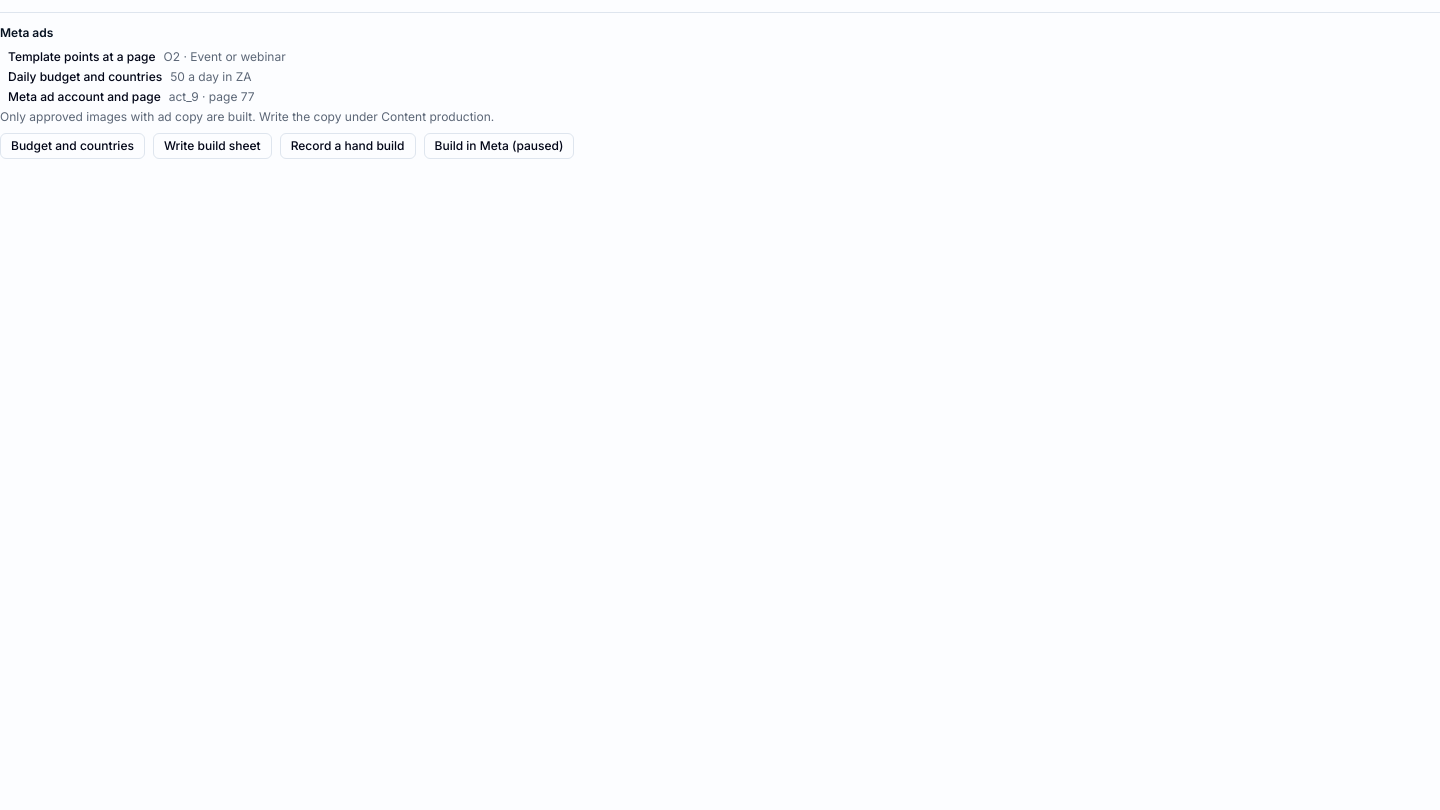
Test: MetaBuildSection › refuses an id that is not one, rather than storing something reporting cannot match
Click the button "Record a hand build" at (348, 146), box [280,133,416,159]
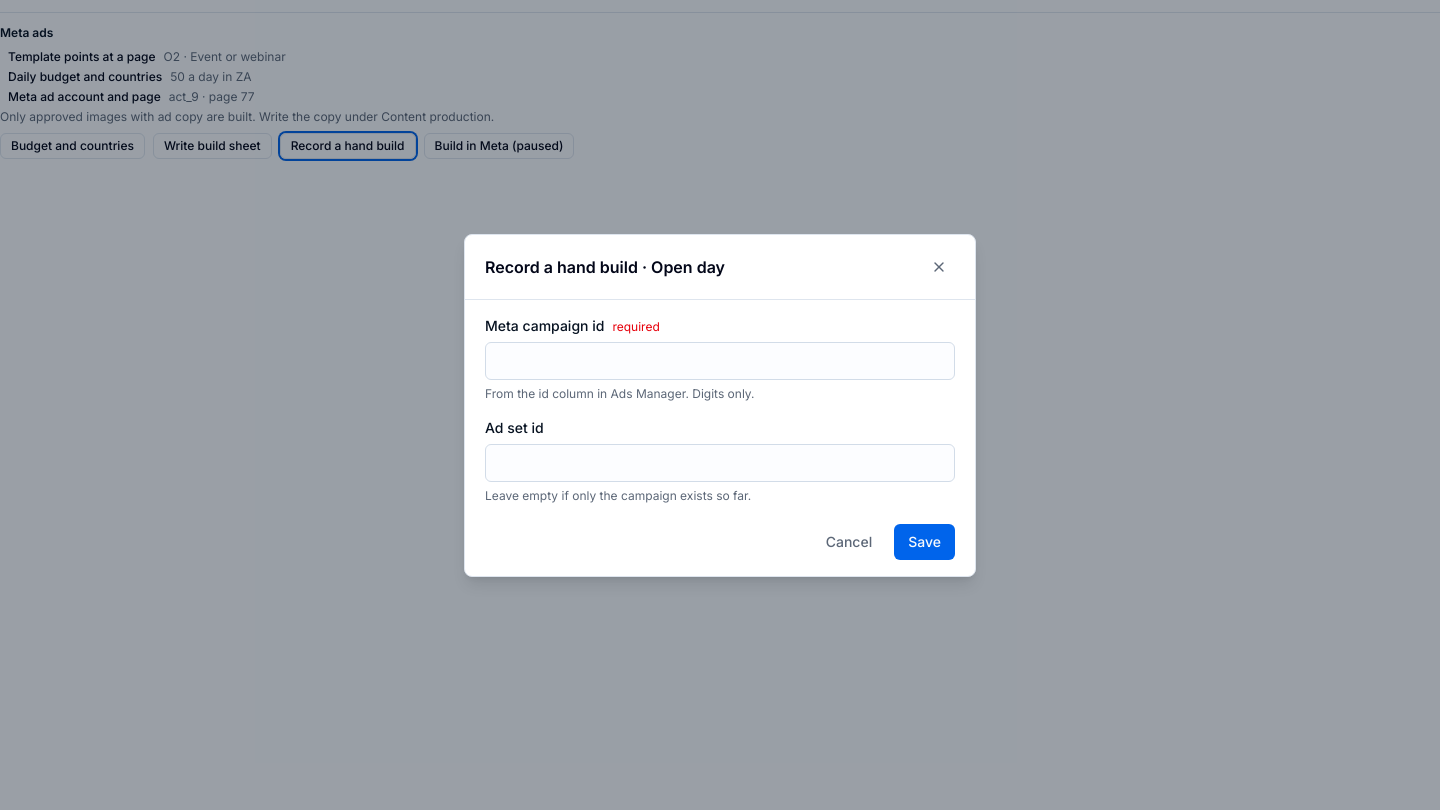
Type "act_9" into the field labelled "Meta campaign id required" at (720, 360), box [485,342,955,380]
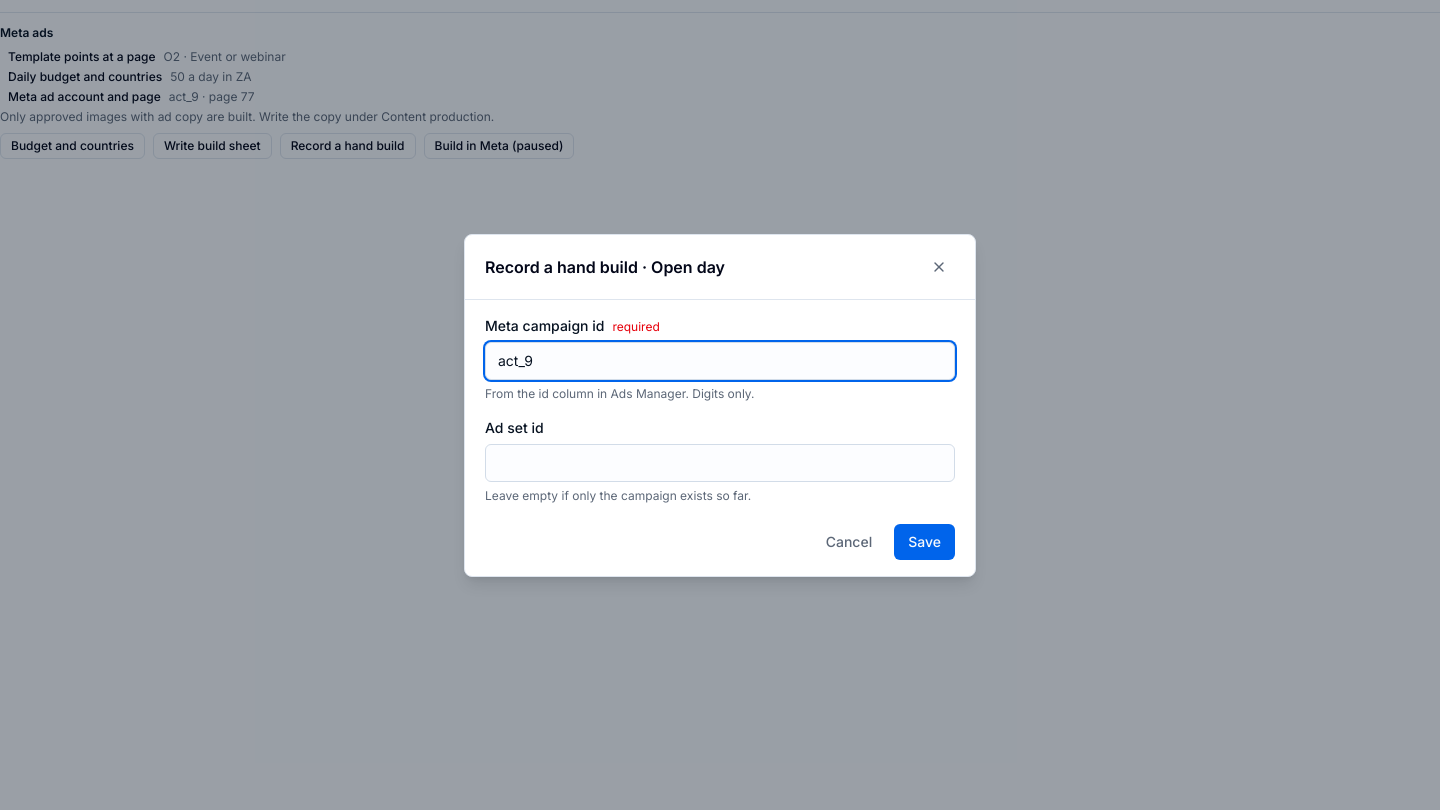
Click the button "Save" at (925, 542), box [894,524,955,560]
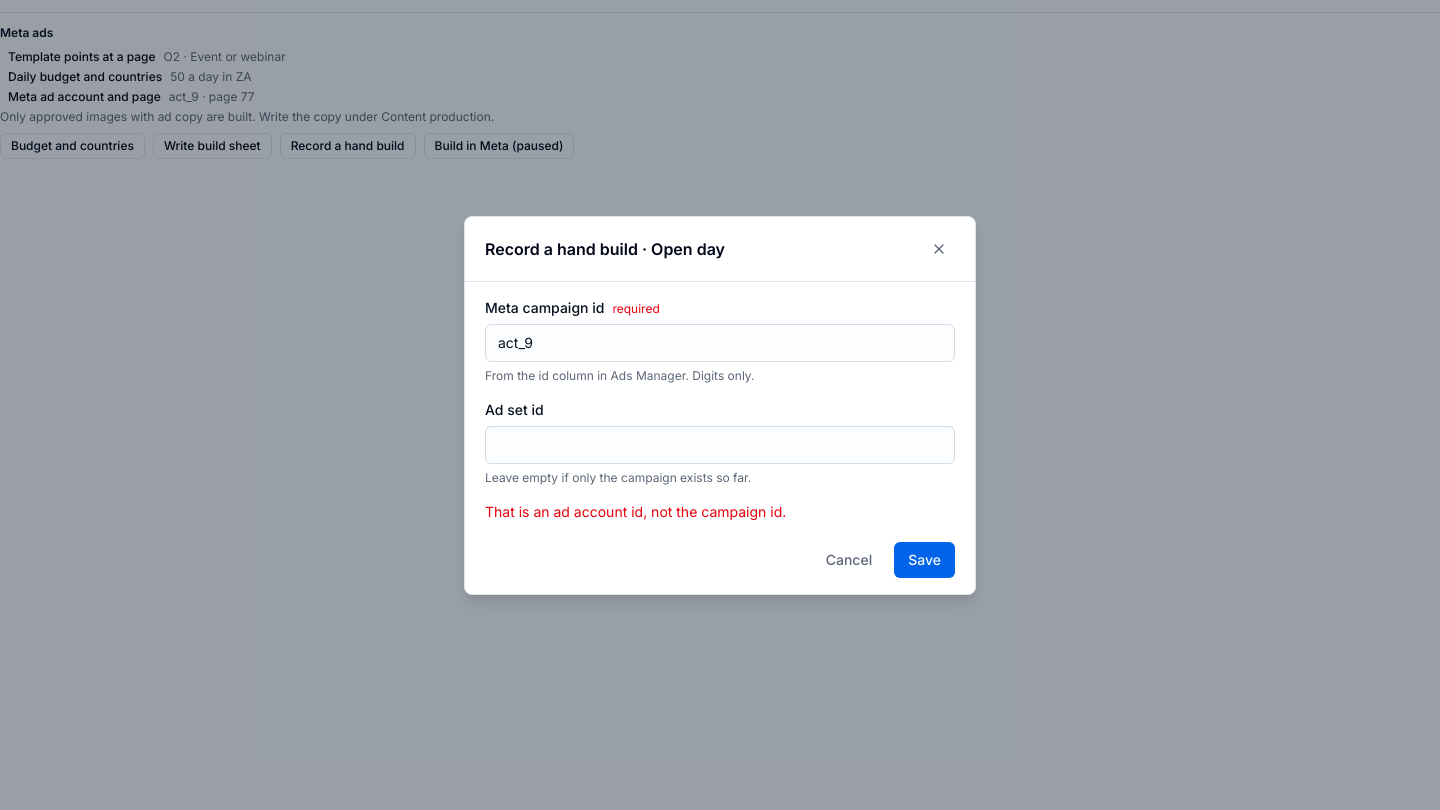
Expected: the text "That is an ad account id, not the campaign id." is shown, [485,502,786,520]
